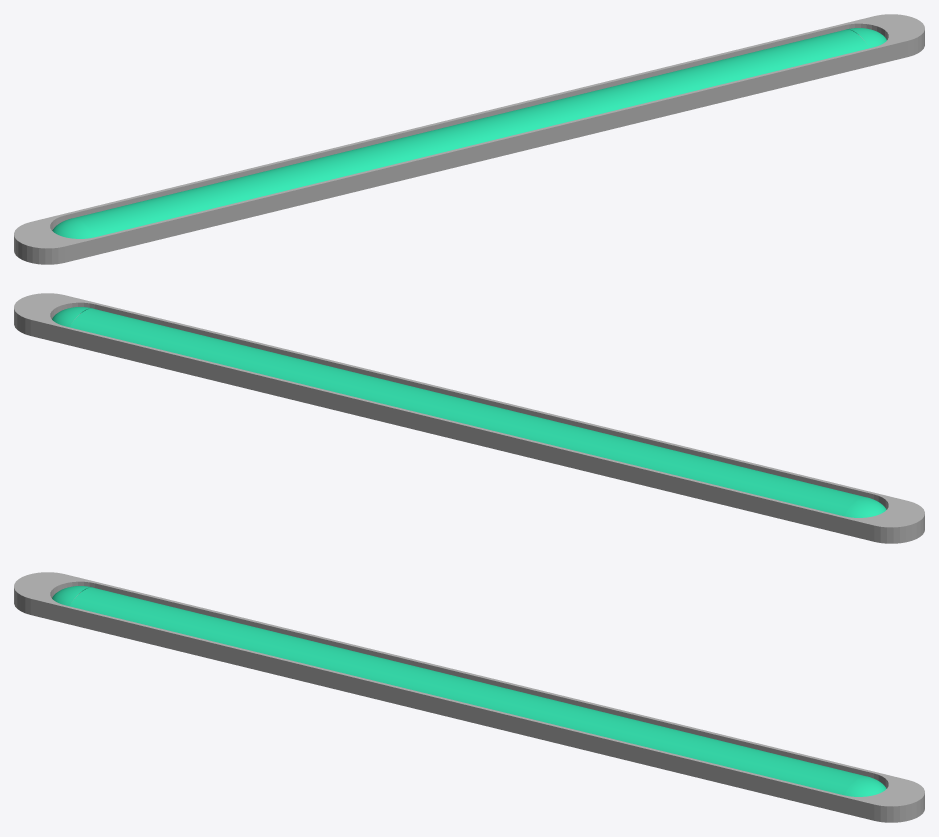
3 views of the same model, one above another, from view 1: azimuth 30°, elevation 25°; view 2: azimuth 150°, elevation 25°; view 3: azimuth 330°, elevation 25° (orthographic).
Parts seen in each view (by area): view 1: Cube, Cylinder.001; view 2: Cube, Cylinder.001; view 3: Cube, Cylinder.001.
Part boxes in pixels (left/top/right/bottom): Cube: left=14, top=14, right=924, bottom=264; Cylinder.001: left=52, top=28, right=886, bottom=238; Cube: left=14, top=293, right=924, bottom=543; Cylinder.001: left=52, top=307, right=886, bottom=517; Cube: left=14, top=572, right=924, bottom=822; Cylinder.001: left=52, top=586, right=886, bottom=796.
Bounding box in the file's own units: 6.95 × 0.1488 × 0.45.
